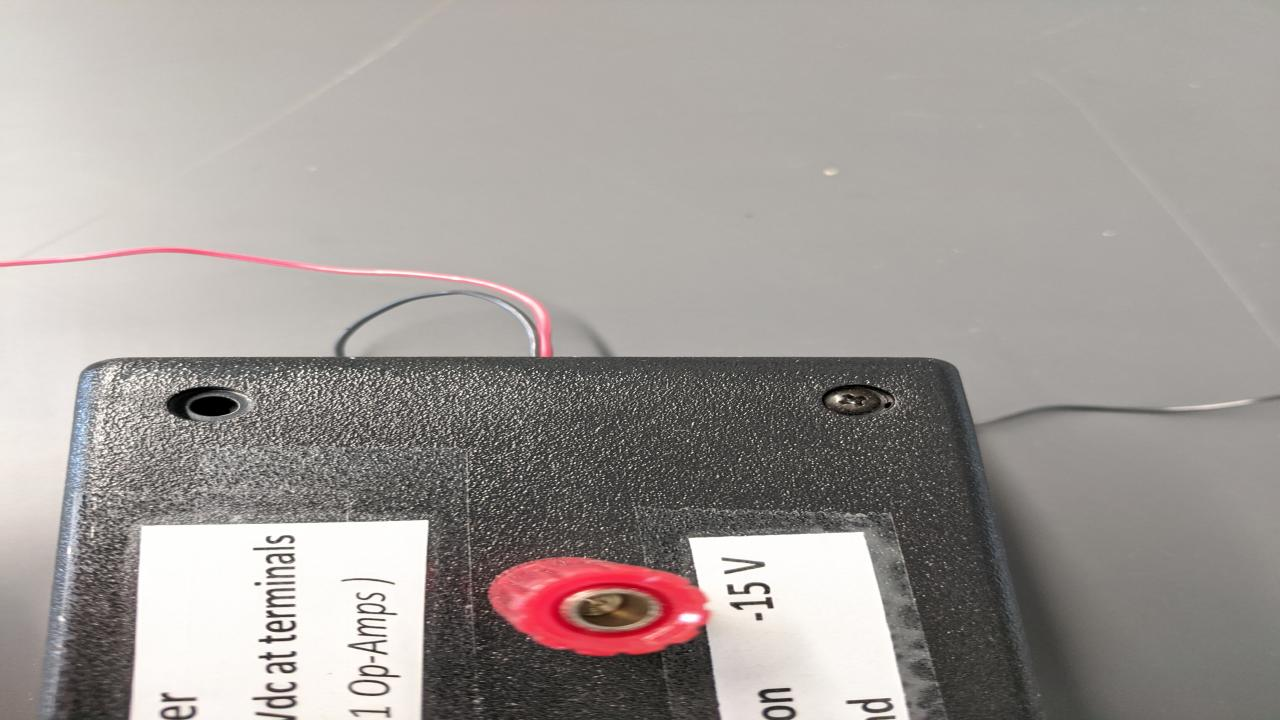CRS: (821, 386, 877, 413)
